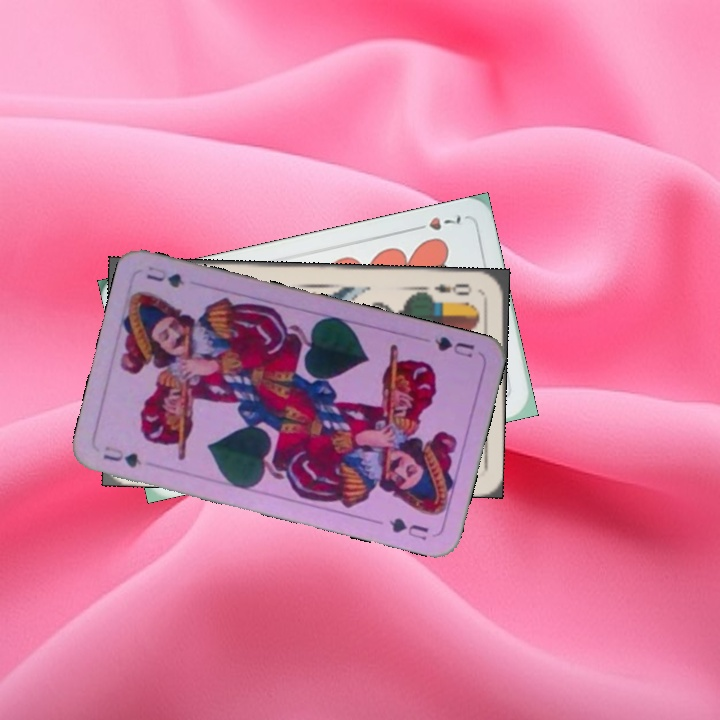EO: (430, 280, 474, 298)
GU: (99, 441, 144, 471), (430, 332, 477, 360)
H7: (408, 211, 464, 234)
